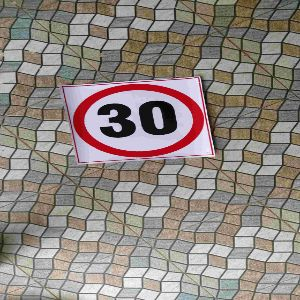speedlimit30: (66, 86, 213, 156)
